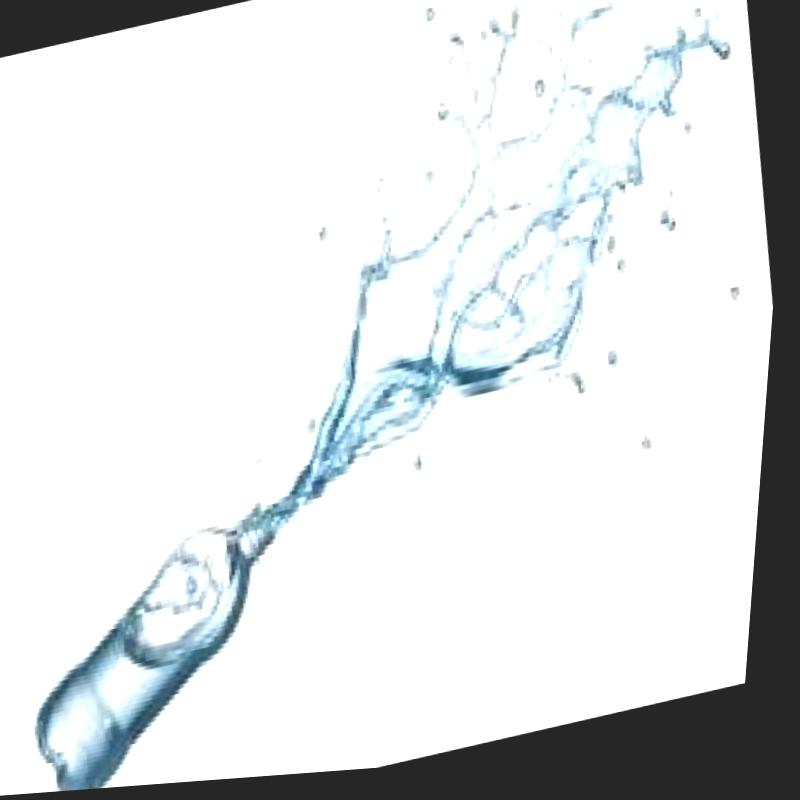botella: (15, 498, 323, 796)
